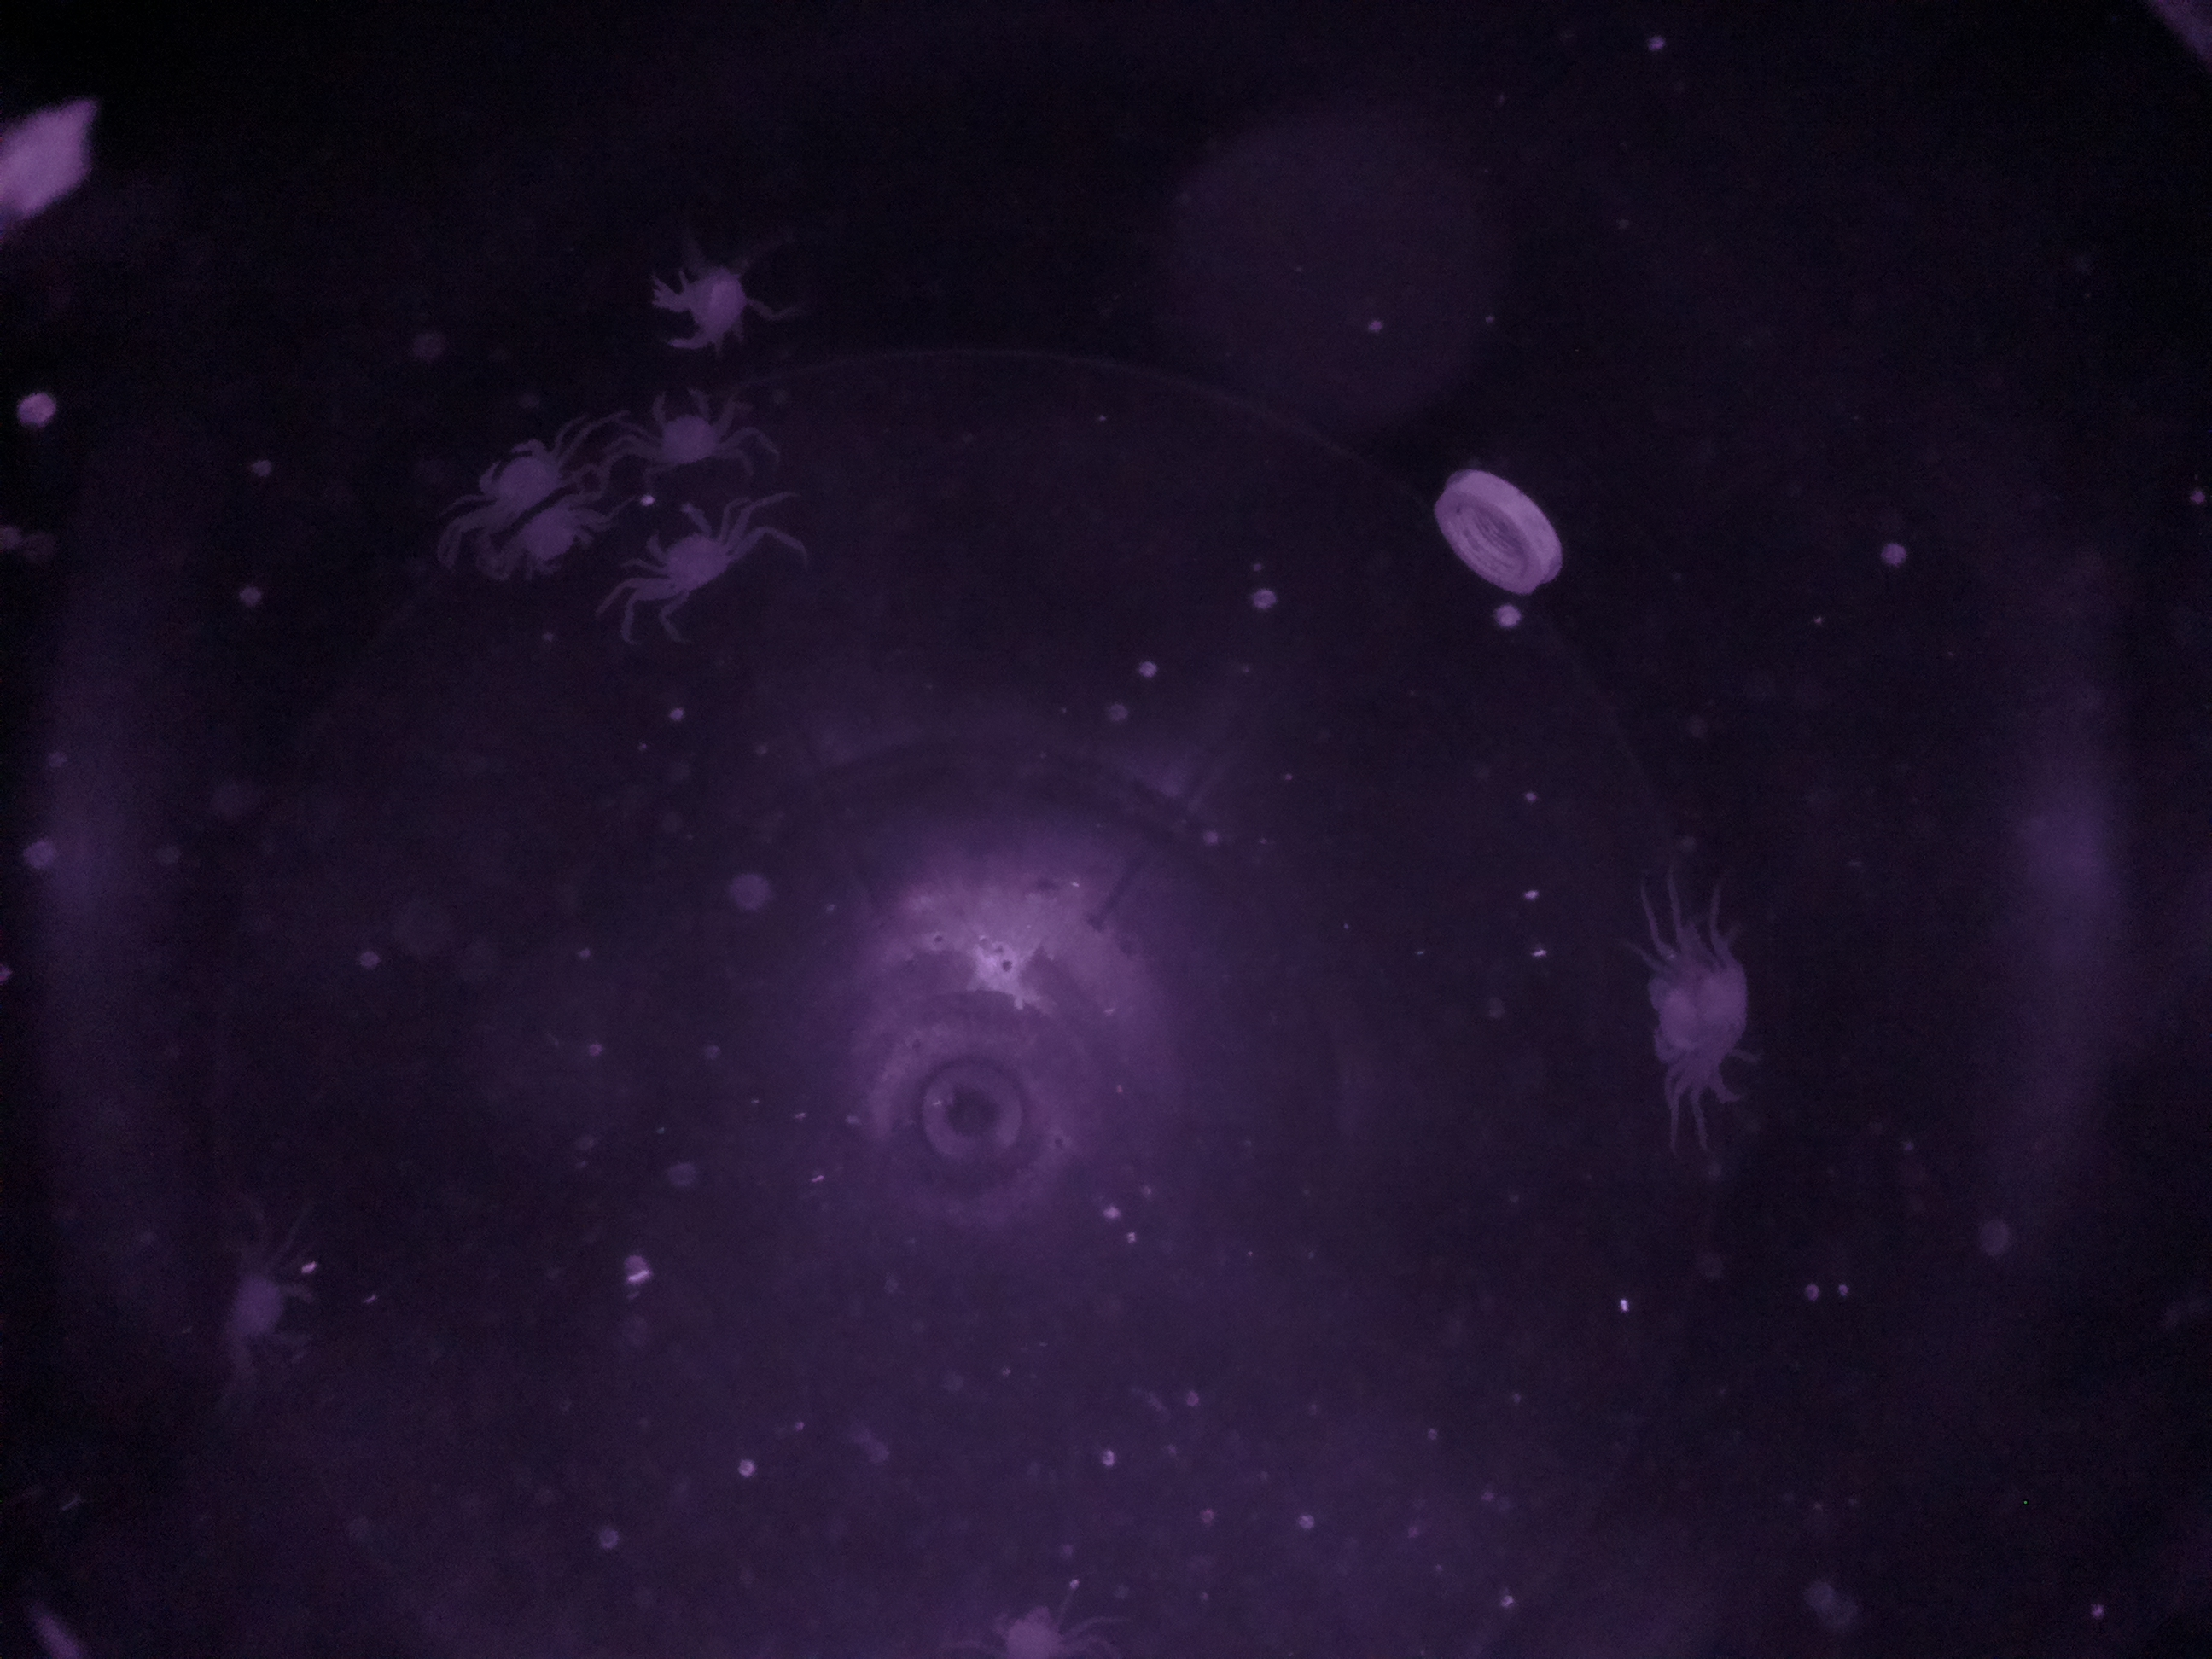Crab: (1590, 932, 1818, 1098), (624, 488, 758, 619), (460, 423, 578, 537)
